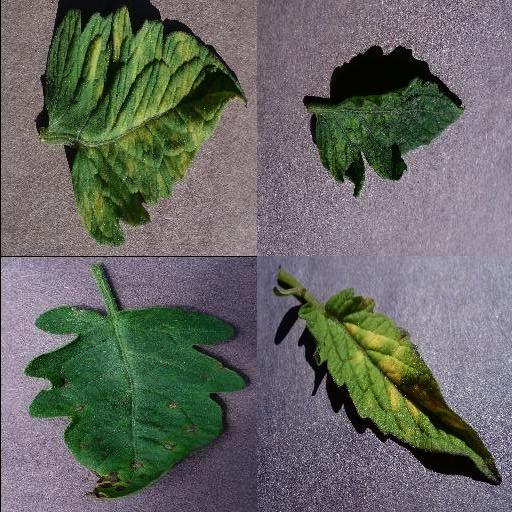Leaf Mold: (42, 5, 248, 247), (296, 288, 500, 484)
Mosaic Virus: (312, 78, 464, 200)
Septoria: (22, 305, 245, 501)
